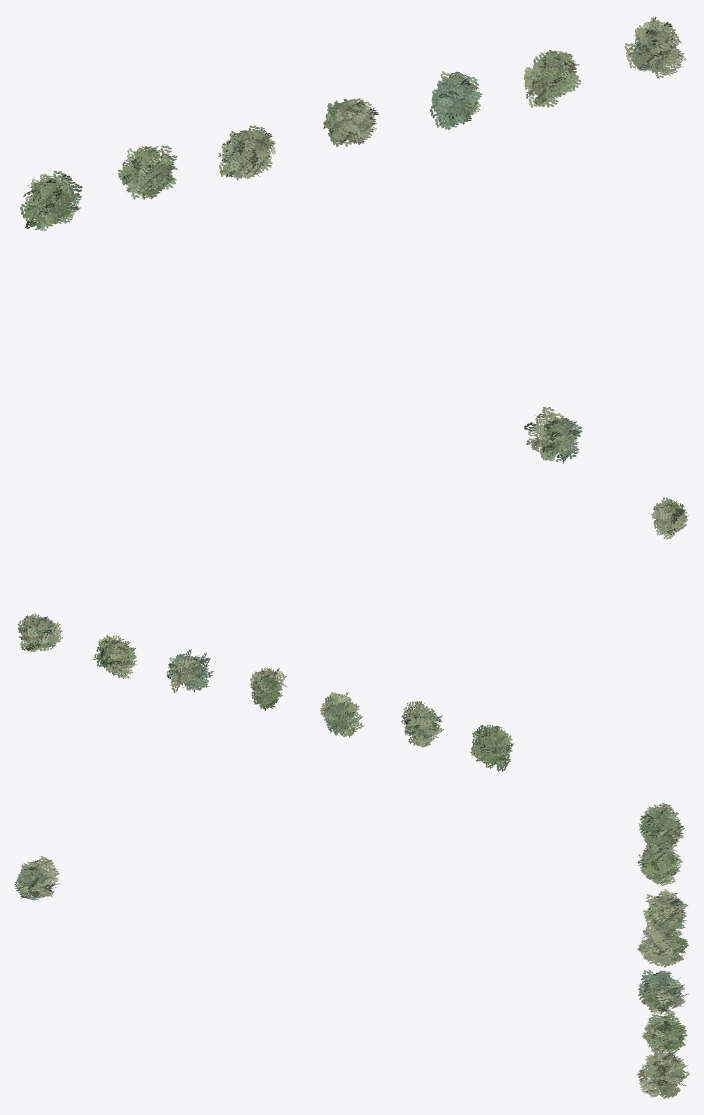
The model's file is campus-tree--1_-4-middle.glb.
3 renders of one model, top to bottom at view 1: azimuth 30°, elevation 25°; view 2: azimuth 150°, elevation 25°; view 3: azimuth 270°, elevation 25°, orthographic. The views are drawn at different scales.
Visible parts, largest first — view 1: Campus leaf canopy; view 2: Campus leaf canopy; view 3: Campus leaf canopy.
Part boxes in pixels (<box>): Campus leaf canopy: <box>20,17,686,463</box>; Campus leaf canopy: <box>18,497,688,771</box>; Campus leaf canopy: <box>14,802,689,1098</box>.
Size of the model in its own units: 73.53 by 7.02 by 77.08.
Materials: 1 (1 with a texture image).
